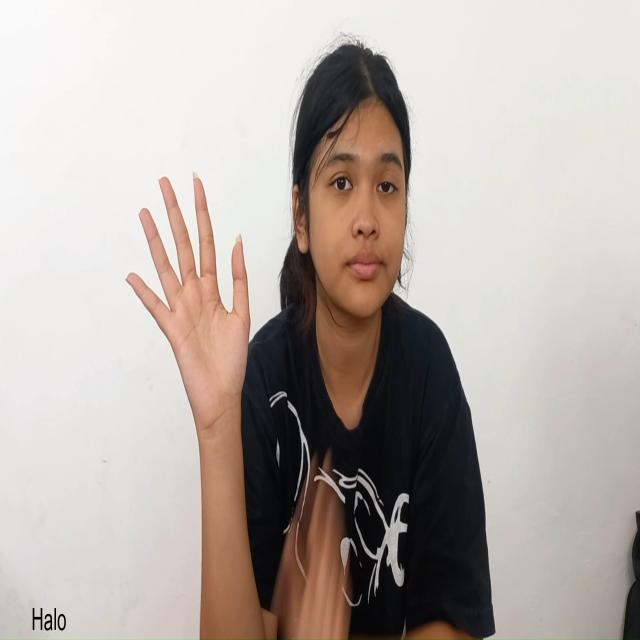Halo -BISINDO-: (117, 153, 266, 454)
